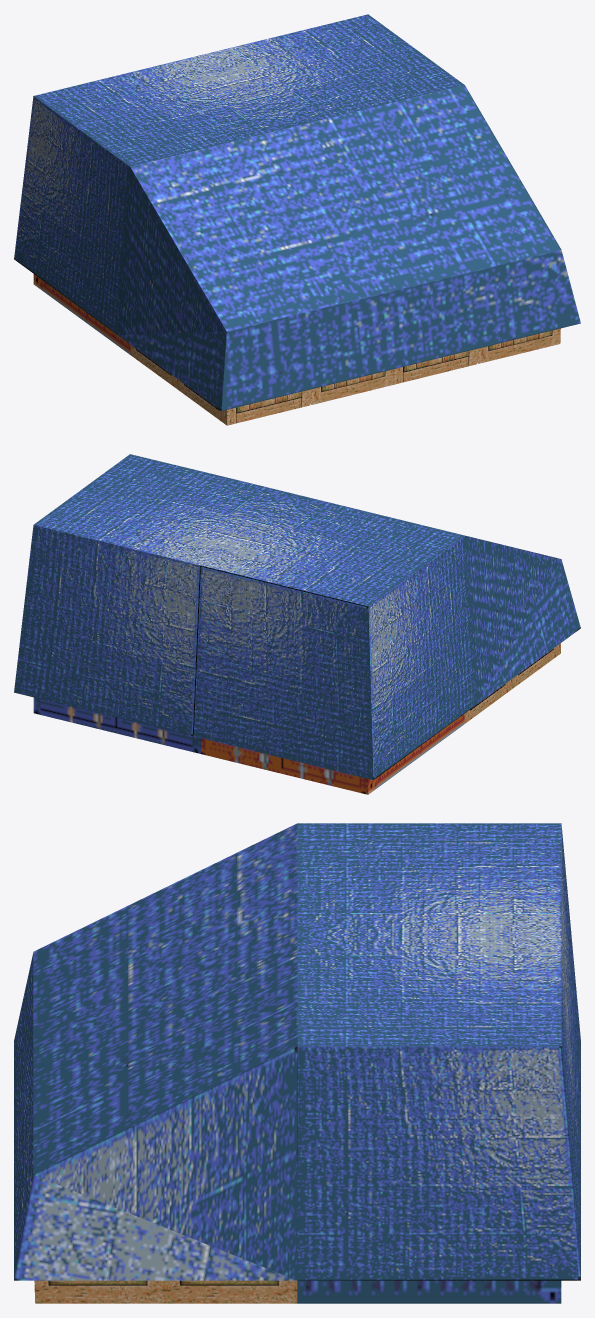
The model's file is ContainerRampa-4x2x4.fbx.
3 views of the same model, one above another, from view 1: azimuth 30°, elevation 25°; view 2: azimuth 150°, elevation 25°; view 3: azimuth 270°, elevation 25° (orthographic). The views are drawn at different scales.
Parts seen in each view (by area): view 1: ContainerRampa-4x2x4; view 2: ContainerRampa-4x2x4; view 3: ContainerRampa-4x2x4.
Part boxes in pixels (x1=…): ContainerRampa-4x2x4: x1=14, y1=14, x2=580, y2=425; ContainerRampa-4x2x4: x1=14, y1=454, x2=580, y2=794; ContainerRampa-4x2x4: x1=14, y1=823, x2=580, y2=1303.
Size of the model in its own units: 4 by 2 by 4.
